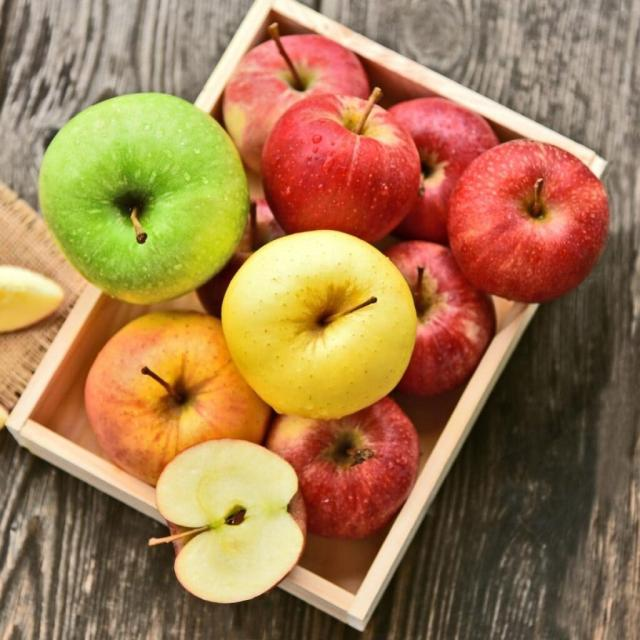Green Apple: (36, 95, 252, 305), (156, 438, 309, 602)
Red Apple: (445, 133, 612, 303), (3, 336, 33, 640)
